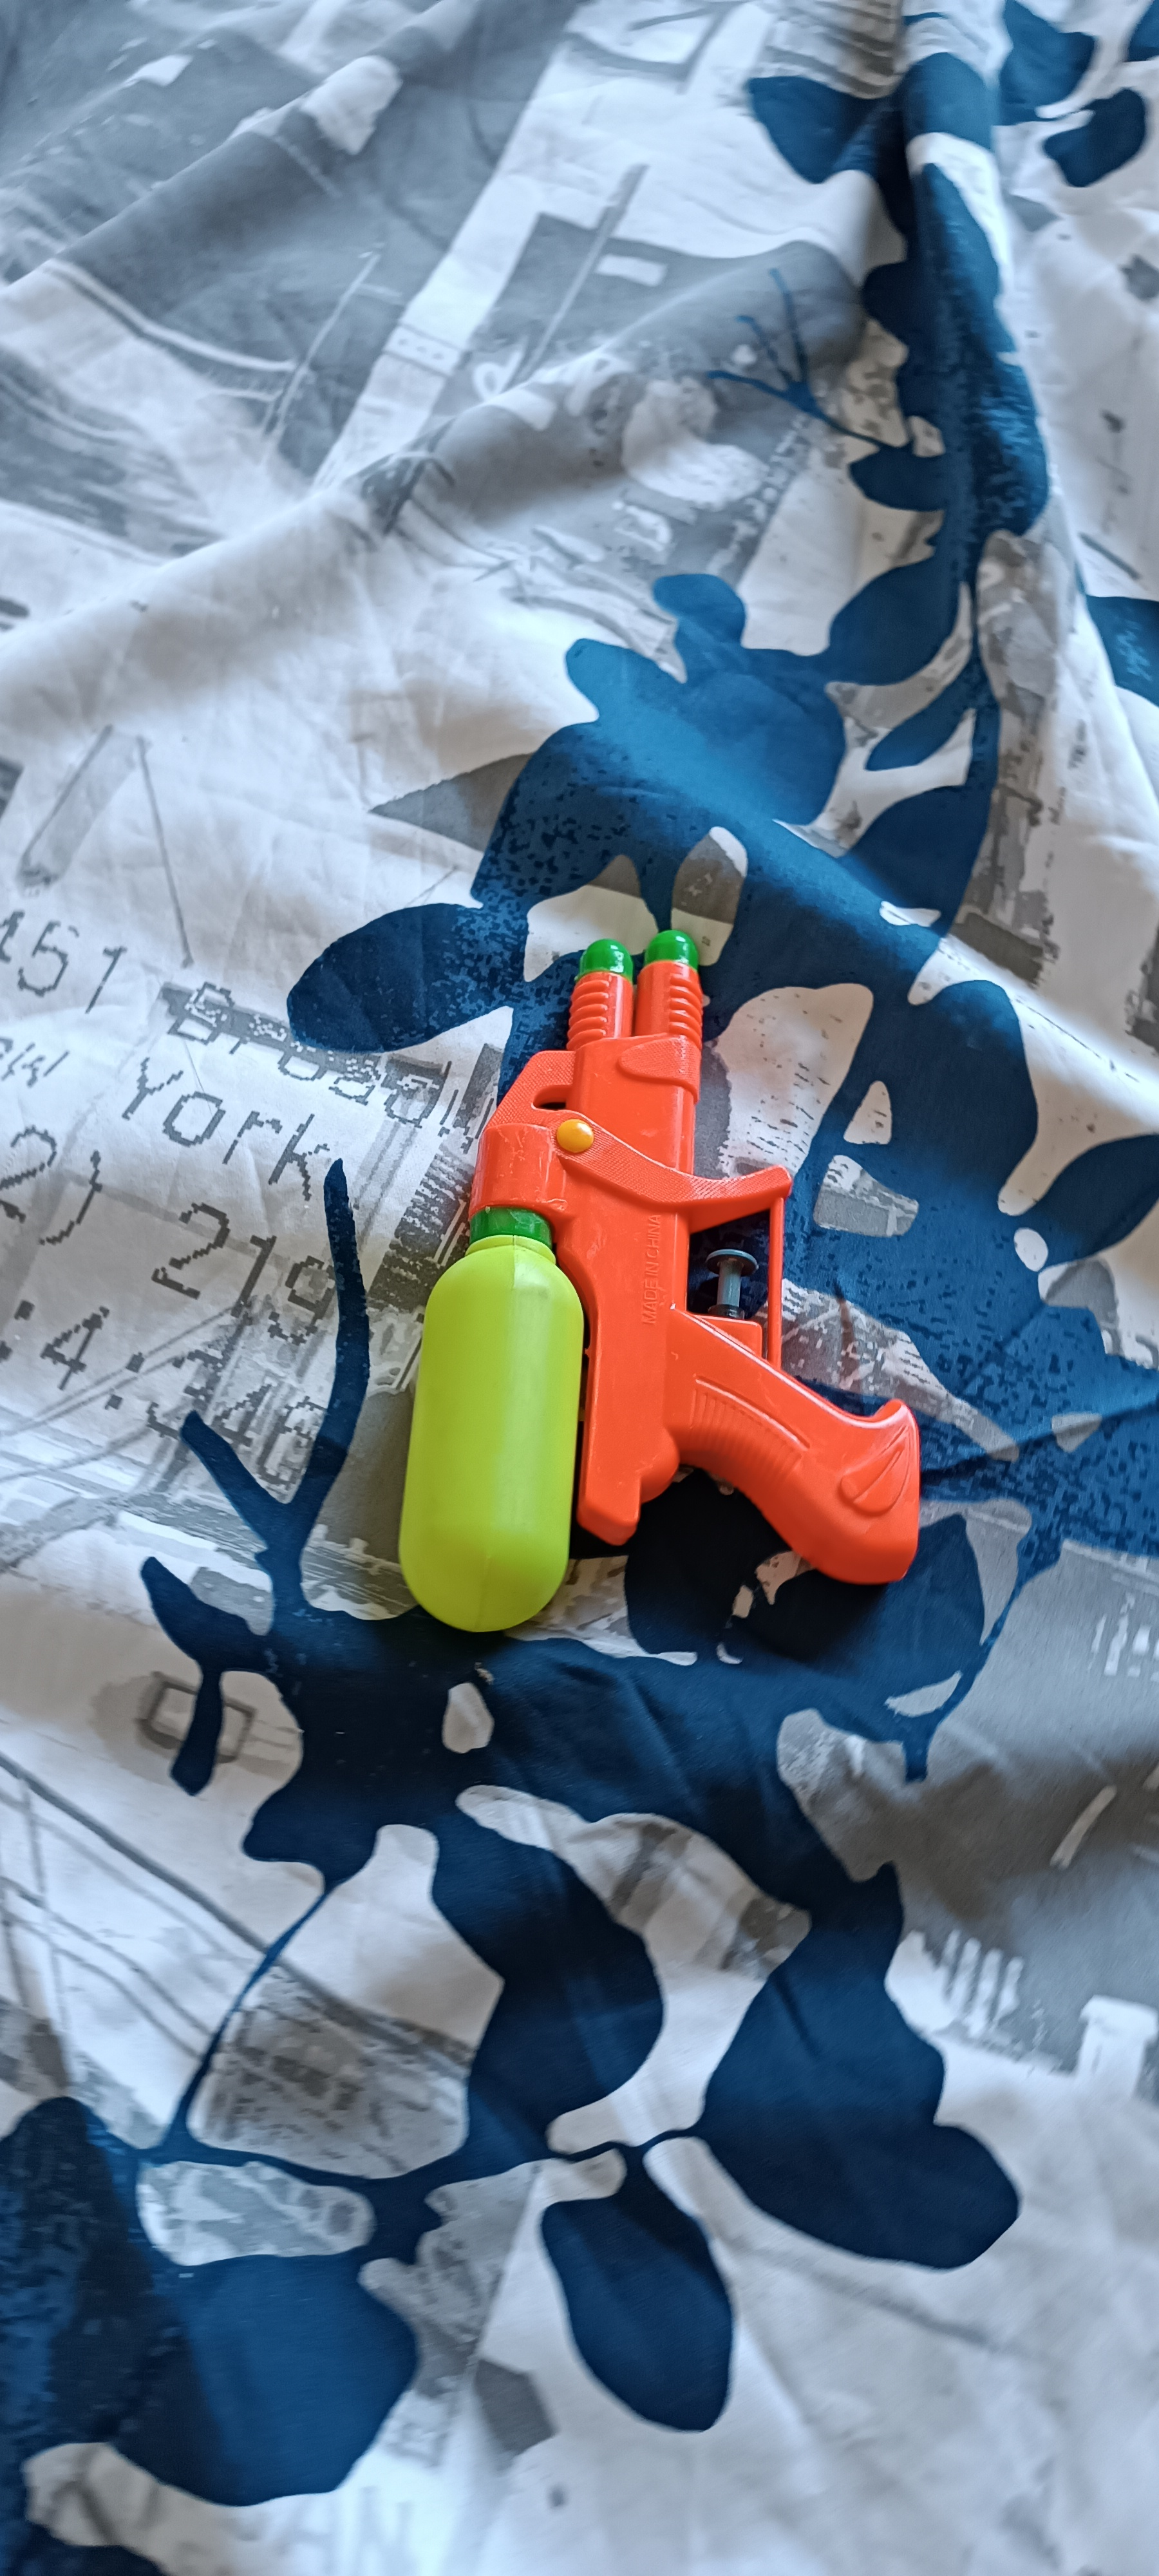Water Gun: (396, 931, 921, 1635)
